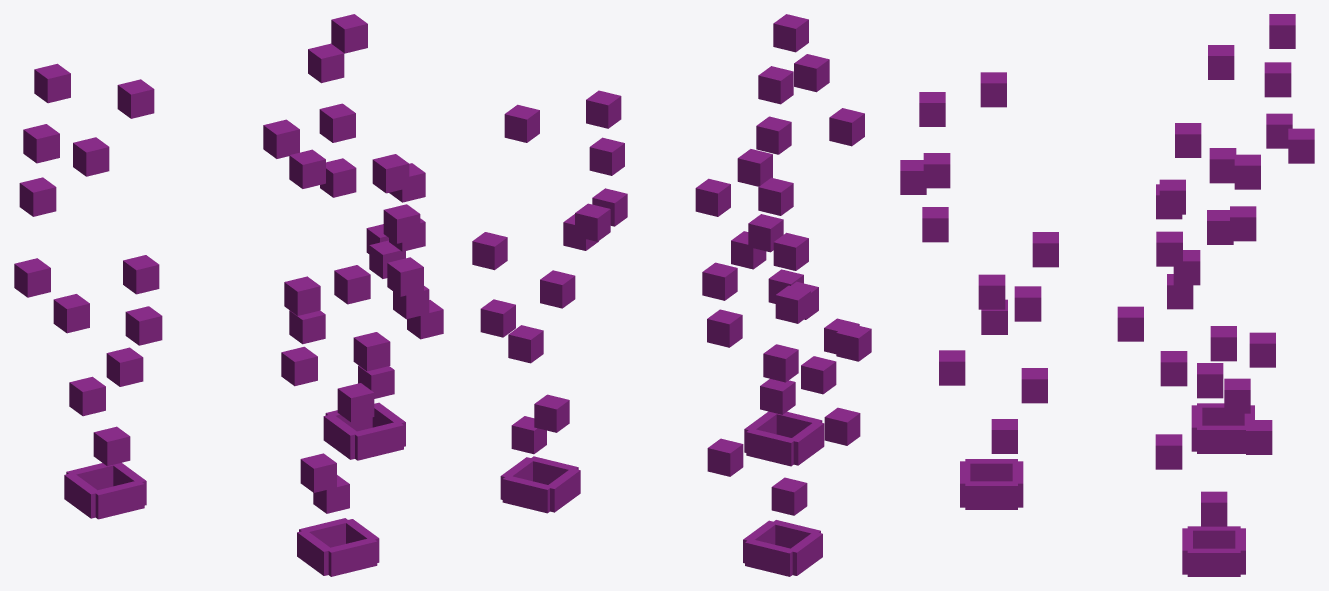
File: PoisonTrap.fbx
The picture shows the model from 3 angles, left to right: view 1: azimuth 30°, elevation 25°; view 2: azimuth 150°, elevation 25°; view 3: azimuth 270°, elevation 25°; orthographic projection. The views are drawn at different scales.
Parts seen in each view (by area): view 1: Cube.034, Cube.001, Cube.014, Cube.008, Cube.016, Cube.039, Cube.044, Cube.047, Cube.022, Cube.037, Cube.006, Cube.041 (+32 smaller); view 2: Cube.002, Cube.018, Cube.033, Cube.038, Cube.037, Cube.041, Cube.016, Cube.025, Cube.032, Cube.021, Cube.024, Cube.026 (+34 smaller); view 3: Cube.011, Cube.003, Cube.036, Cube.010, Cube.004, Cube.007, Cube.021, Cube.016, Cube.017, Cube.024, Cube.045, Cube.009 (+29 smaller).
Boxes of the visible parts, bbox=[...] form: Cube.034: bbox=[93, 481, 144, 519]; Cube.001: bbox=[328, 538, 377, 576]; Cube.014: bbox=[355, 421, 403, 460]; Cube.008: bbox=[353, 332, 390, 371]; Cube.016: bbox=[383, 204, 420, 243]; Cube.039: bbox=[125, 306, 162, 345]; Cube.044: bbox=[19, 177, 56, 216]; Cube.047: bbox=[117, 79, 154, 118]; Cube.022: bbox=[372, 154, 409, 193]; Cube.037: bbox=[93, 426, 130, 466]; Cube.006: bbox=[337, 383, 374, 422]; Cube.041: bbox=[106, 347, 143, 386]; Cube.002: bbox=[746, 428, 795, 466]; Cube.018: bbox=[502, 475, 550, 513]; Cube.033: bbox=[745, 539, 792, 576]; Cube.038: bbox=[824, 407, 860, 445]; Cube.037: bbox=[771, 477, 807, 515]; Cube.041: bbox=[707, 438, 743, 476]; Cube.016: bbox=[758, 66, 793, 104]; Cube.025: bbox=[534, 394, 569, 432]; Cube.032: bbox=[586, 90, 621, 128]; Cube.021: bbox=[508, 325, 543, 363]; Cube.024: bbox=[540, 270, 575, 308]; Cube.026: bbox=[472, 232, 507, 270]; Cube.011: bbox=[1187, 548, 1240, 576]; Cube.003: bbox=[965, 481, 1017, 509]; Cube.036: bbox=[1197, 425, 1245, 453]; Cube.010: bbox=[1187, 526, 1240, 548]; Cube.004: bbox=[965, 459, 1017, 481]; Cube.007: bbox=[1014, 286, 1041, 321]; Cube.021: bbox=[1155, 434, 1182, 469]; Cube.016: bbox=[923, 153, 950, 188]; Cube.017: bbox=[978, 274, 1005, 309]; Cube.024: bbox=[1160, 351, 1187, 386]; Cube.045: bbox=[1264, 62, 1291, 97]; Cube.009: bbox=[939, 350, 965, 385].
Bounding box in the file's own units: 172 × 171 × 157.
